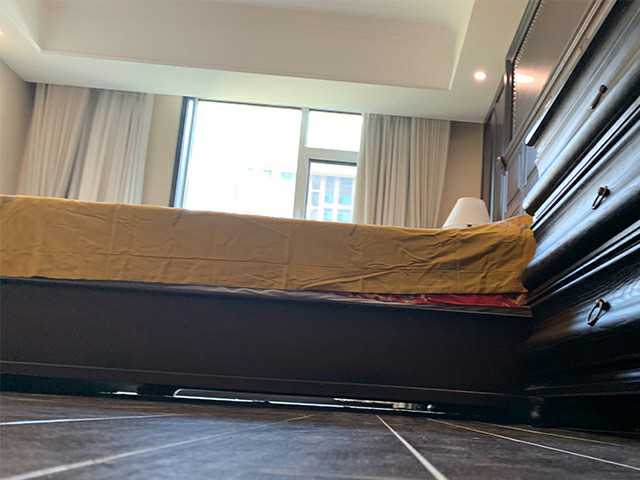bed: (1, 193, 538, 420)
cabinet: (519, 1, 640, 429)
